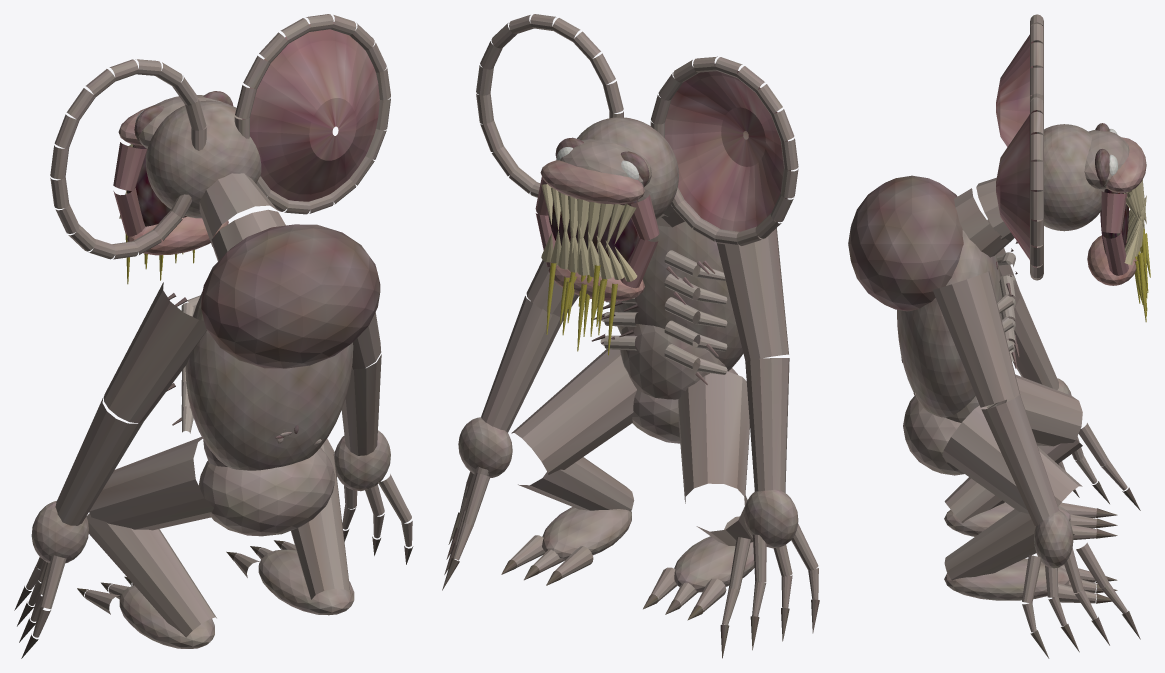
Rendered from Escutador_Monstro_3D.glb.
3 renders of one model, left to right at view 1: azimuth 30°, elevation 25°; view 2: azimuth 150°, elevation 25°; view 3: azimuth 270°, elevation 25°, orthographic. The views are drawn at different scales.
Parts seen in each view (by area): view 1: 003_shoulder_hump, 087_giant_cupped_ear, 001_hunched_torso, 004_pelvis, 036_skull, 122_bent_leg0, 107_long_arm0, 123_bent_leg1, 108_long_arm1, 147_bent_leg1, 148_wide_foot, 132_long_arm1 (+13 smaller); view 2: 067_giant_cupped_ear, 146_bent_leg0, 122_bent_leg0, 001_hunched_torso, 107_long_arm0, 108_long_arm1, 132_long_arm1, 002_abdomen, 036_skull, 147_bent_leg1, 148_wide_foot, 039_upper_jaw (+18 smaller); view 3: 003_shoulder_hump, 001_hunched_torso, 131_long_arm0, 036_skull, 146_bent_leg0, 132_long_arm1, 147_bent_leg1, 087_giant_cupped_ear, 122_bent_leg0, 004_pelvis, 148_wide_foot, 067_giant_cupped_ear (+16 smaller).
Boxes of the visible parts, bbox=[...] form: 003_shoulder_hump: bbox=[201, 224, 380, 368]; 087_giant_cupped_ear: bbox=[242, 22, 379, 201]; 001_hunched_torso: bbox=[185, 290, 353, 470]; 004_pelvis: bbox=[198, 447, 334, 536]; 036_skull: bbox=[146, 100, 261, 218]; 122_bent_leg0: bbox=[89, 436, 213, 530]; 107_long_arm0: bbox=[104, 282, 206, 423]; 123_bent_leg1: bbox=[86, 513, 216, 637]; 108_long_arm1: bbox=[55, 397, 144, 525]; 147_bent_leg1: bbox=[291, 444, 350, 599]; 148_wide_foot: bbox=[258, 549, 354, 615]; 132_long_arm1: bbox=[341, 354, 381, 455]; 067_giant_cupped_ear: bbox=[665, 63, 790, 231]; 146_bent_leg0: bbox=[511, 349, 636, 474]; 122_bent_leg0: bbox=[678, 371, 749, 503]; 001_hunched_torso: bbox=[609, 221, 743, 370]; 107_long_arm0: bbox=[717, 220, 788, 361]; 108_long_arm1: bbox=[745, 358, 789, 492]; 132_long_arm1: bbox=[481, 296, 563, 432]; 002_abdomen: bbox=[620, 324, 728, 399]; 036_skull: bbox=[577, 117, 678, 219]; 147_bent_leg1: bbox=[518, 457, 634, 511]; 148_wide_foot: bbox=[542, 507, 631, 560]; 039_upper_jaw: bbox=[540, 160, 644, 204]; 003_shoulder_hump: bbox=[848, 175, 963, 311]; 001_hunched_torso: bbox=[897, 230, 1002, 417]; 131_long_arm0: bbox=[932, 271, 1020, 407]; 036_skull: bbox=[1037, 124, 1104, 231]; 146_bent_leg0: bbox=[942, 405, 1082, 513]; 132_long_arm1: bbox=[981, 394, 1058, 525]; 147_bent_leg1: bbox=[944, 509, 1074, 580]; 087_giant_cupped_ear: bbox=[996, 110, 1036, 267]; 122_bent_leg0: bbox=[1006, 374, 1082, 446]; 004_pelvis: bbox=[903, 396, 964, 475]; 148_wide_foot: bbox=[944, 558, 1069, 600]; 067_giant_cupped_ear: bbox=[996, 34, 1033, 146].
Bounding box in the file's own units: 2.6 × 3.73 × 1.99.
